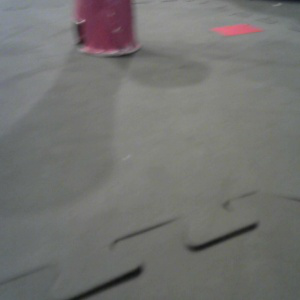middle: (73, 1, 143, 59)
